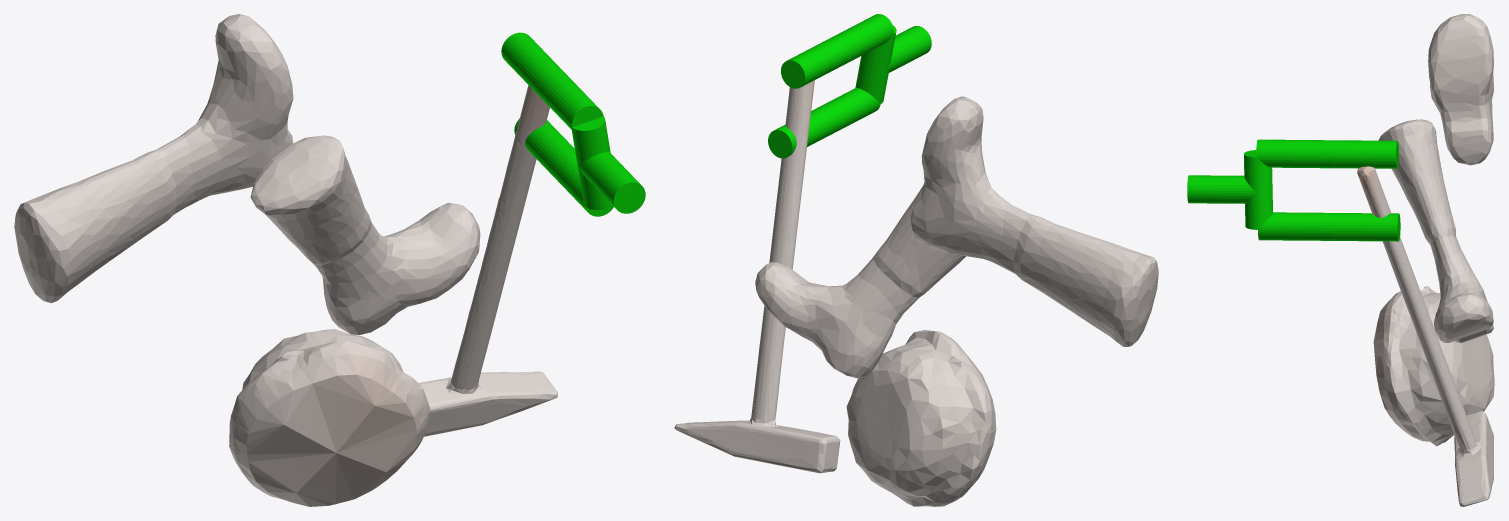
The model's file is round_000_trial_002.obj.
The picture shows the model from 3 angles, left to right: view 1: azimuth 30°, elevation 25°; view 2: azimuth 150°, elevation 25°; view 3: azimuth 270°, elevation 25°; orthographic projection. The views are drawn at different scales.
Visible parts, largest first — view 1: geometry_0, geometry_1; view 2: geometry_0, geometry_1; view 3: geometry_0, geometry_1.
Boxes of the visible parts, x1=… form: geometry_0: x1=14, y1=14, x2=557, y2=506; geometry_1: x1=501, y1=32, x2=645, y2=216; geometry_0: x1=674, y1=80, x2=1158, y2=506; geometry_1: x1=768, y1=14, x2=931, y2=158; geometry_0: x1=1357, y1=14, x2=1494, y2=506; geometry_1: x1=1187, y1=139, x2=1400, y2=241.
Bounding box in the file's own units: 0.1776 × 0.156 × 0.1095.
